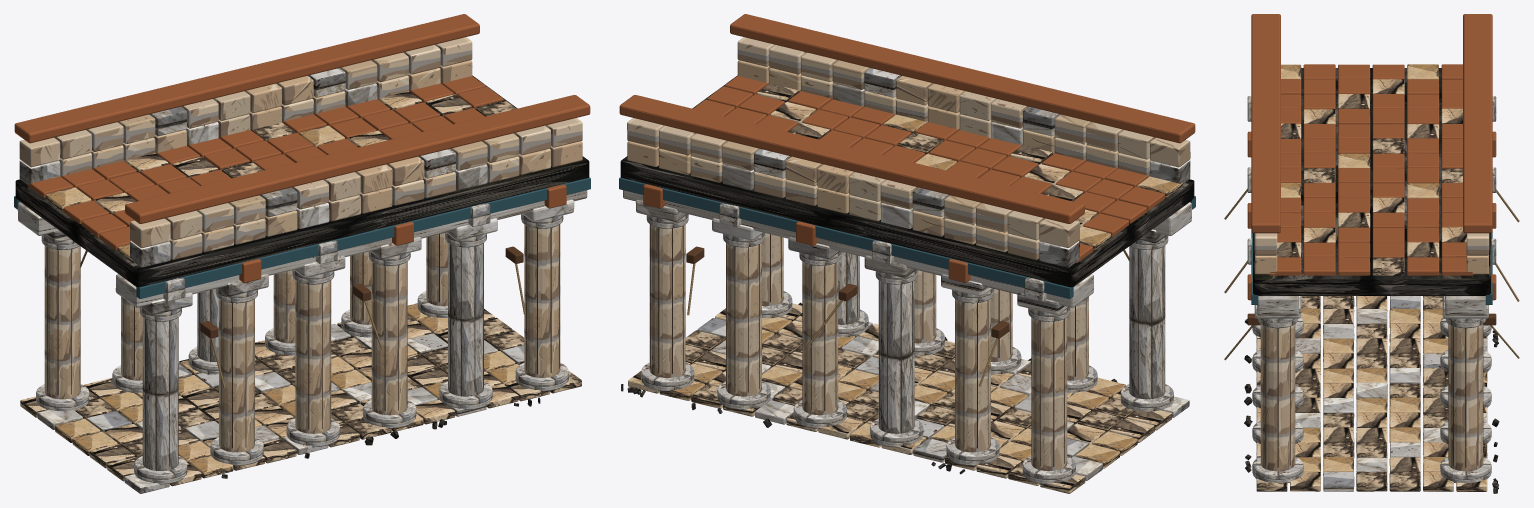
Rendered from market_colonnade_walkable_LOD0.glb.
3 views of the same model, side by side, from view 1: azimuth 30°, elevation 25°; view 2: azimuth 150°, elevation 25°; view 3: azimuth 270°, elevation 25° (orthographic). The views are drawn at different scales.
Visible parts, largest first — view 1: MarketRoofHeart, MarketTerracottaCoping.001, MarketTerracottaCoping, MarketColumnShaft.002, MarketColumnShaft, MarketColumnShaft.006, MarketColumnShaft.003, MarketColumnShaft.004, MarketColumnShaft.005, MarketColumnShaft.001, MarketBlueFrieze, MarketArchitrave (+66 smaller); view 2: MarketRoofHeart, MarketTerracottaCoping, MarketTerracottaCoping.001, MarketColumnShaft.008, MarketColumnShaft, MarketColumnShaft.006, MarketColumnShaft.009, MarketColumnShaft.011, MarketColumnShaft.010, MarketColumnShaft.007, MarketBlueFrieze.001, MarketArchitrave.001 (+63 smaller); view 3: MarketRoofHeart, MarketTerracottaCoping, MarketTerracottaCoping.001, MarketColumnShaft.005, MarketColumnShaft.011, MarketArchitrave, MarketArchitrave.001, MarketColumnBase.011, MarketColumnBase.005, MarketGroundPaver.055, MarketGroundPaver.069, MarketGroundPaver.041 (+132 smaller).
Boxes of the visible parts, x1,y1,x2,y2 form: MarketRoofHeart: [15, 75, 589, 287]; MarketTerracottaCoping.001: [14, 14, 479, 143]; MarketTerracottaCoping: [125, 95, 590, 223]; MarketColumnShaft.002: [295, 280, 331, 433]; MarketColumnShaft: [142, 317, 178, 470]; MarketColumnShaft.006: [44, 246, 80, 399]; MarketColumnShaft.003: [371, 262, 407, 415]; MarketColumnShaft.004: [448, 243, 483, 396]; MarketColumnShaft.005: [524, 224, 560, 377]; MarketColumnShaft.001: [219, 299, 254, 452]; MarketBlueFrieze: [136, 177, 590, 298]; MarketArchitrave: [115, 190, 587, 307]; MarketRoofHeart: [620, 75, 1194, 287]; MarketTerracottaCoping: [730, 14, 1195, 143]; MarketTerracottaCoping.001: [619, 95, 1084, 223]; MarketColumnShaft.008: [878, 280, 914, 433]; MarketColumnShaft: [1129, 246, 1165, 399]; MarketColumnShaft.006: [1031, 318, 1067, 470]; MarketColumnShaft.009: [802, 262, 838, 415]; MarketColumnShaft.011: [649, 224, 685, 377]; MarketColumnShaft.010: [726, 243, 761, 396]; MarketColumnShaft.007: [955, 299, 990, 452]; MarketBlueFrieze.001: [619, 177, 1073, 298]; MarketArchitrave.001: [623, 190, 1093, 307]; MarketRoofHeart: [1253, 68, 1490, 295]; MarketTerracottaCoping: [1251, 14, 1280, 233]; MarketTerracottaCoping.001: [1463, 14, 1492, 233]; MarketColumnShaft.005: [1260, 324, 1295, 471]; MarketColumnShaft.011: [1448, 324, 1483, 471]; MarketArchitrave: [1257, 296, 1298, 315]; MarketArchitrave.001: [1445, 296, 1486, 315]; MarketColumnBase.011: [1440, 456, 1491, 482]; MarketColumnBase.005: [1252, 456, 1303, 483]; MarketGroundPaver.055: [1356, 471, 1387, 491]; MarketGroundPaver.069: [1389, 472, 1420, 491]; MarketGroundPaver.041: [1323, 472, 1354, 491].
Size of the model in its own units: 8.4 by 5.07 by 4.97.
9 materials, 4 textured.
